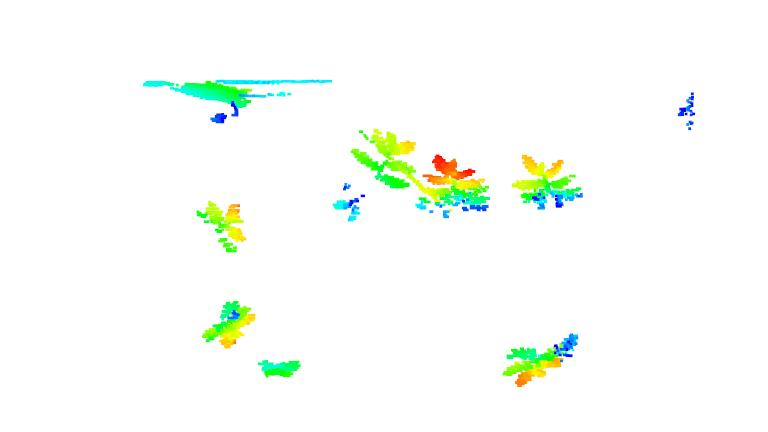chickpea: (328, 125, 416, 221), (421, 152, 494, 218), (500, 331, 580, 387), (510, 153, 584, 212), (195, 196, 250, 260), (196, 300, 259, 349), (257, 357, 302, 381)
